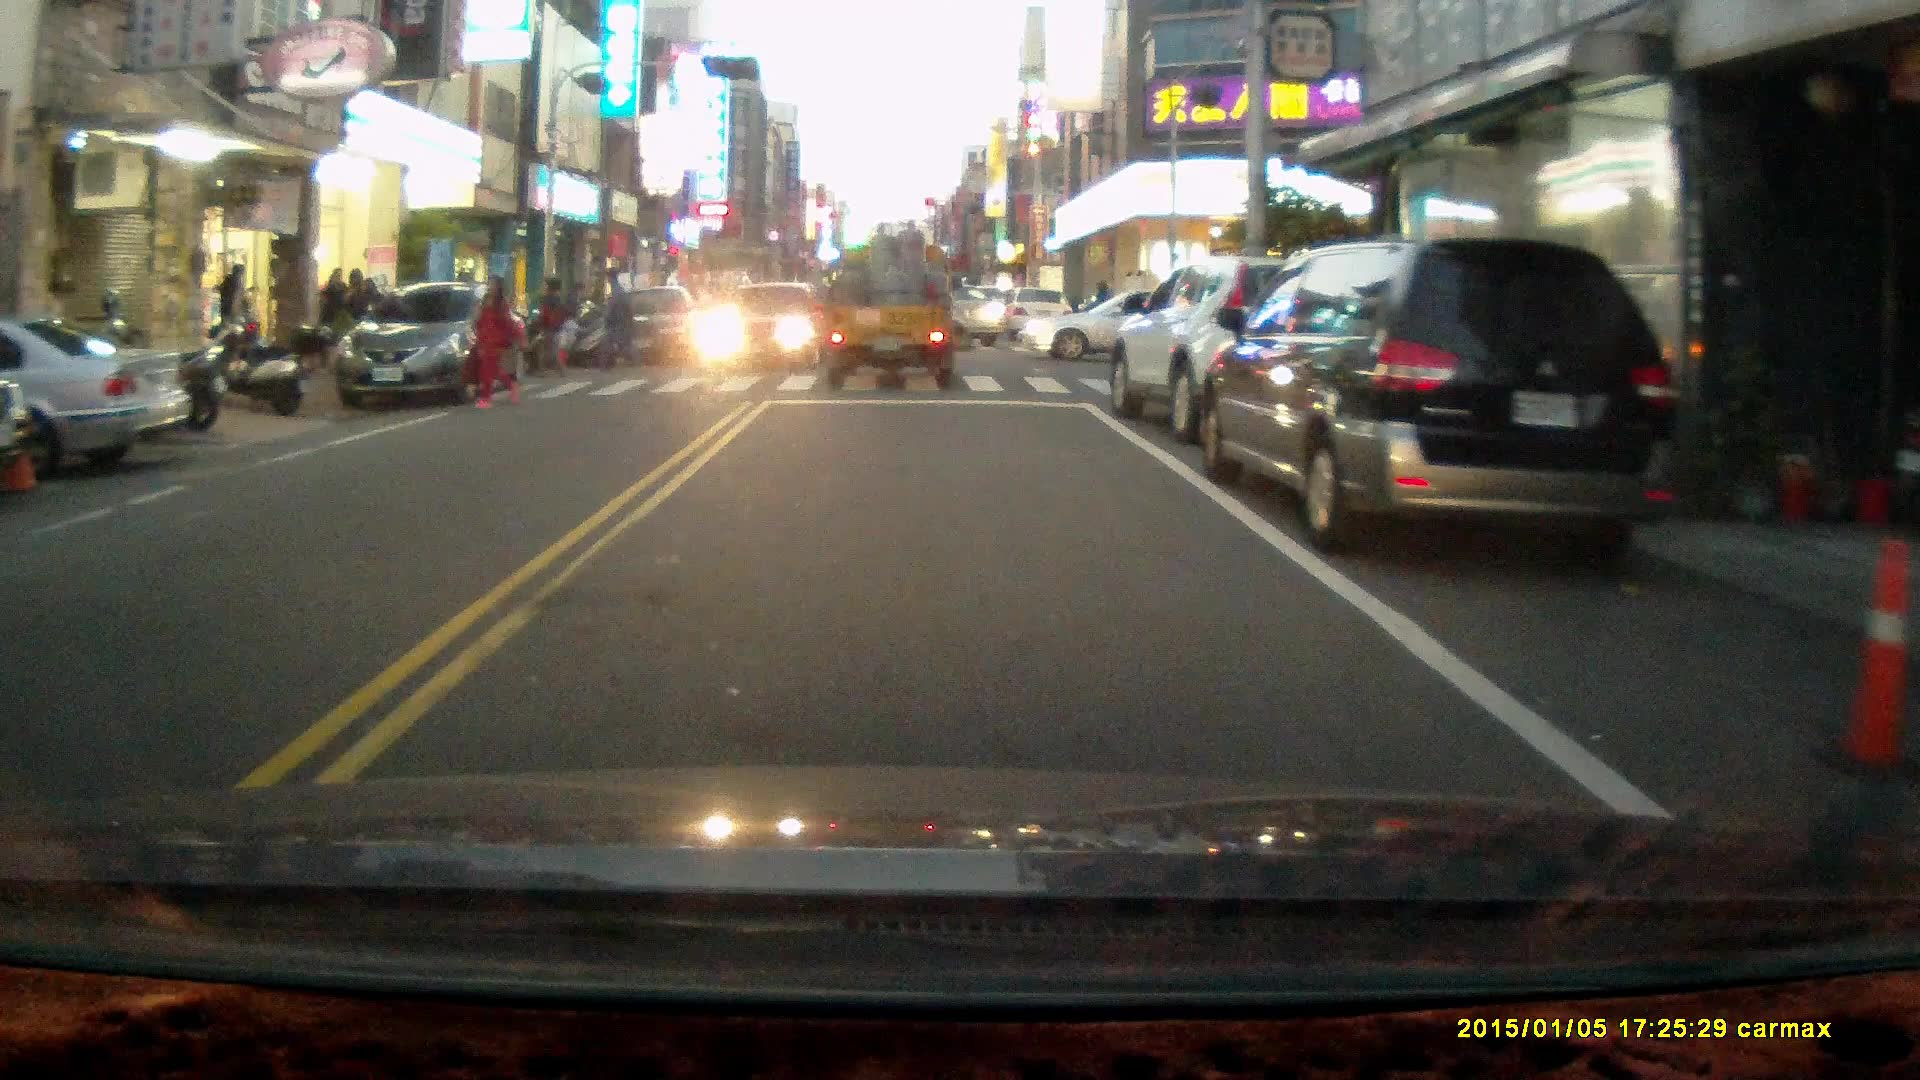pedestrian: (468, 269, 518, 411), (595, 264, 641, 373), (527, 275, 569, 383), (214, 262, 255, 361), (553, 308, 584, 372)
vehicle: (1202, 238, 1677, 570), (1104, 254, 1418, 453), (1, 317, 195, 485), (818, 224, 968, 395), (337, 284, 530, 413), (1019, 290, 1243, 367), (699, 283, 822, 368), (590, 290, 707, 375)
